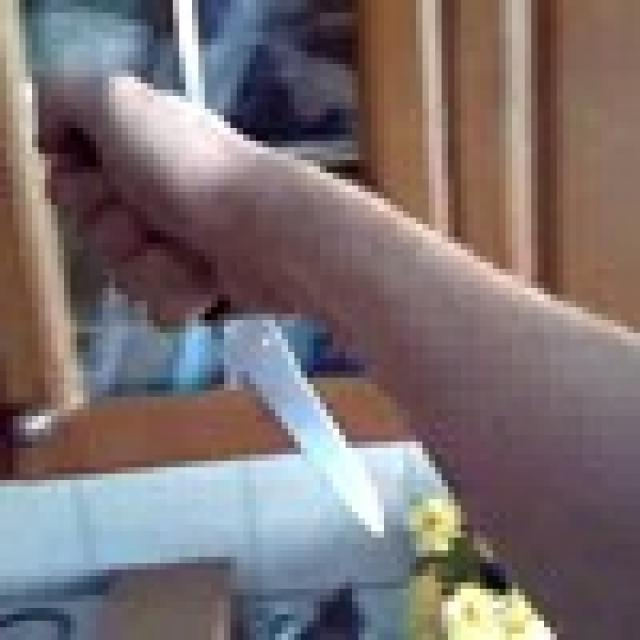Knife: (52, 122, 391, 545)
